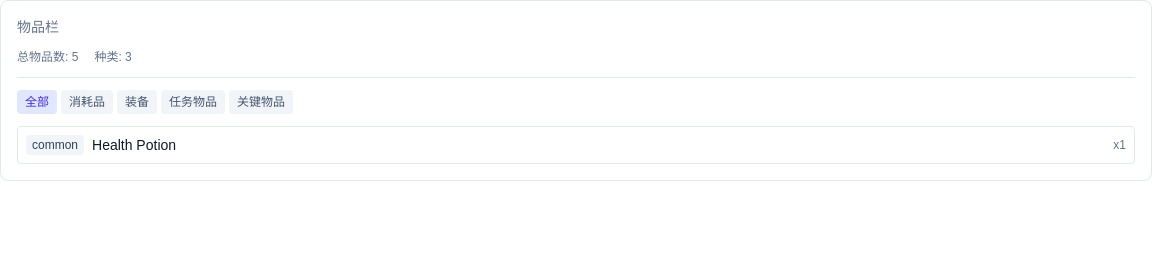
Test: InventoryPanel › shows item details on click
Expected: the text "Health Potion" is shown, [92,135,176,155]
What coordinates should you click on to do the following:
click the button "common Health Potion x1"
I would click on:
 (55, 145)
Its box is [17,126,1135,164].
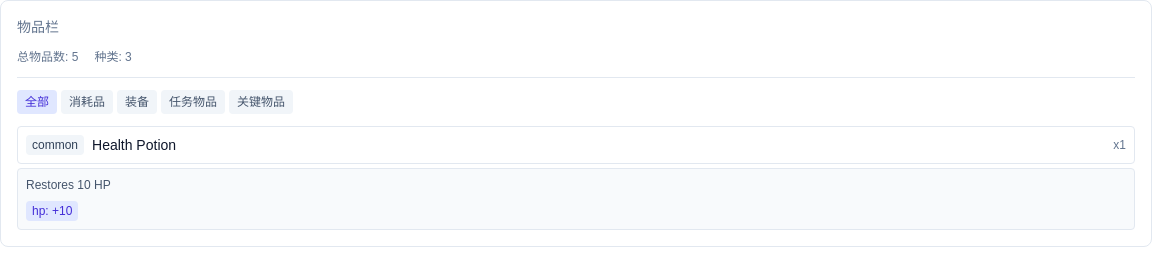
Now the text "Restores 10 HP" is shown, box [26,178,111,192]
